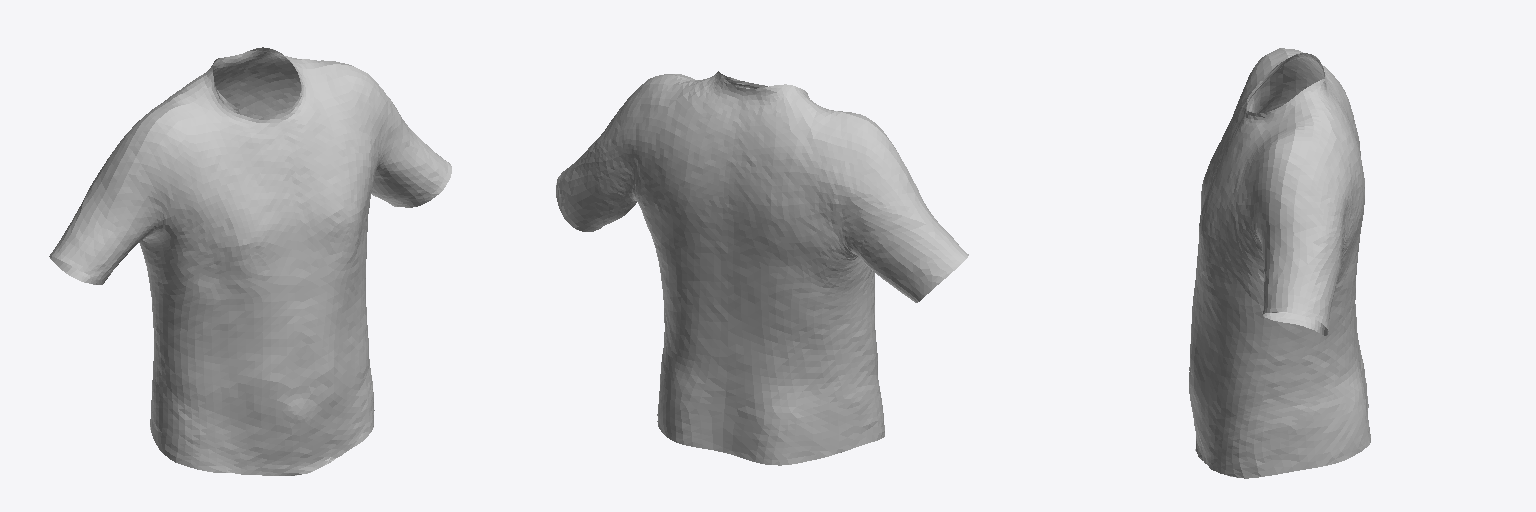
File: t-shirt_pqmW98wYWMelFQa7OXSmzj3ZgJJ2.obj
The picture shows the model from 3 angles: view 1: azimuth 30°, elevation 25°; view 2: azimuth 150°, elevation 25°; view 3: azimuth 270°, elevation 25°; orthographic projection.
Size of the model in its own units: 0.7241 by 0.6567 by 0.2872.